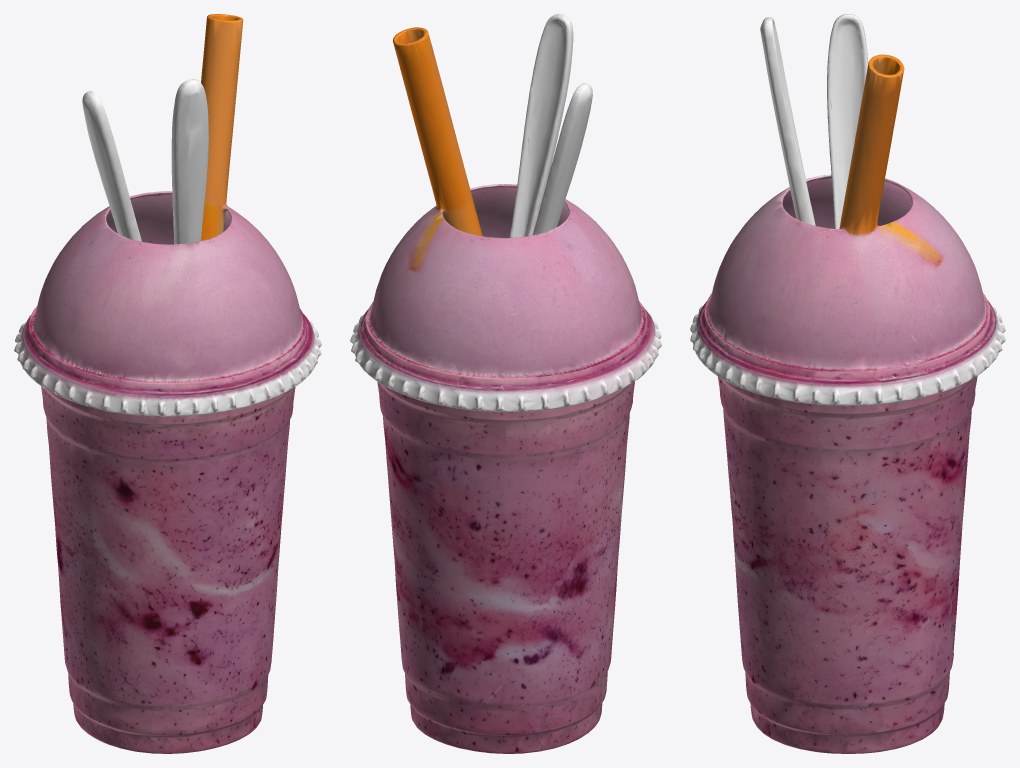
Rendered from smoothie.glb.
3 views of the same model, side by side, from view 1: azimuth 30°, elevation 25°; view 2: azimuth 150°, elevation 25°; view 3: azimuth 270°, elevation 25° (orthographic). The views are drawn at different scales.
Parts seen in each view (by area): view 1: Mesh_0; view 2: Mesh_0; view 3: Mesh_0.
Part boxes in pixels (box(x1,y1,x2,y2)): Mesh_0: box(14, 14, 321, 753); Mesh_0: box(350, 14, 661, 753); Mesh_0: box(690, 14, 1005, 753).
Bounding box in the file's own units: 0.791 × 1.91 × 0.7913.
Materials: 1 (1 with a texture image).
